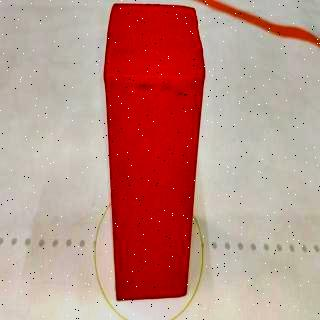redbox: (106, 4, 190, 298)
